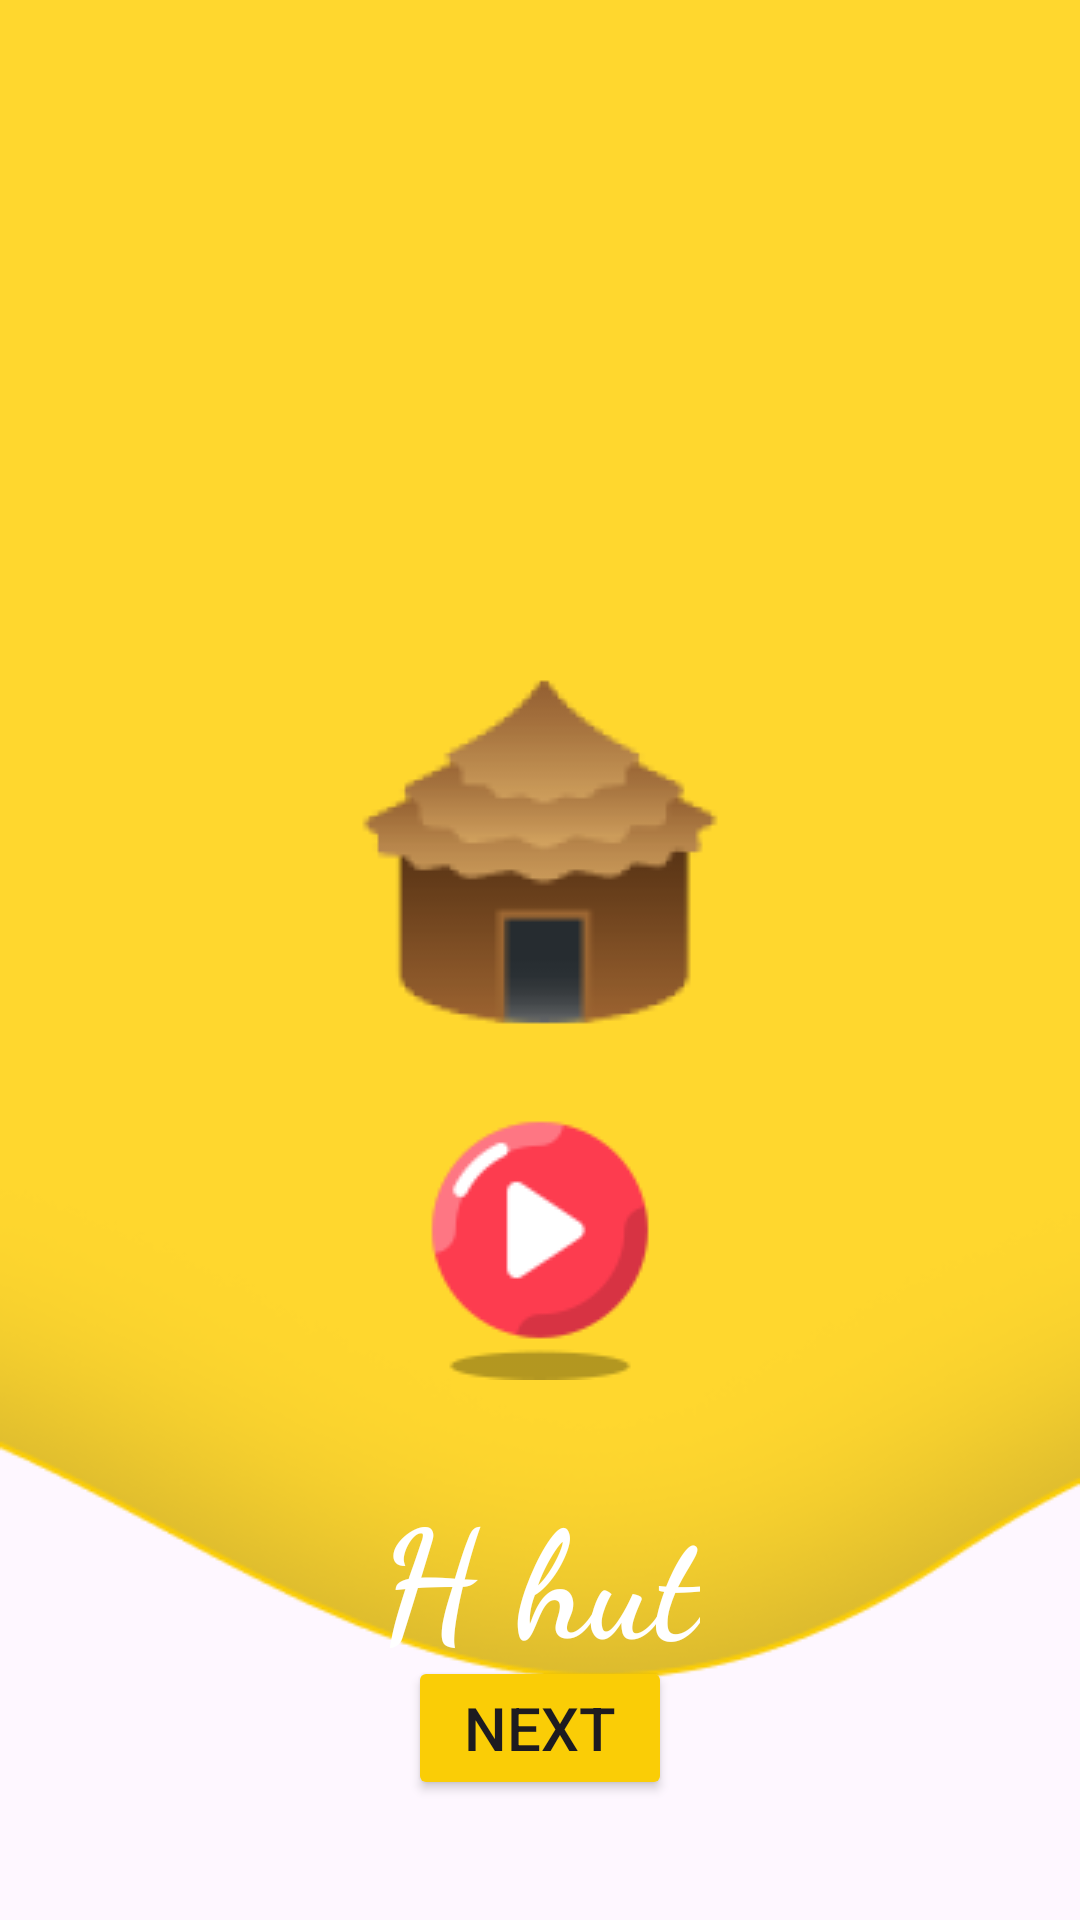

Locate icon controls on the screen. Image size 1080px x 1920px, boxes as (x1, y1, x2, y2).
hut: (364, 680, 716, 1024)
